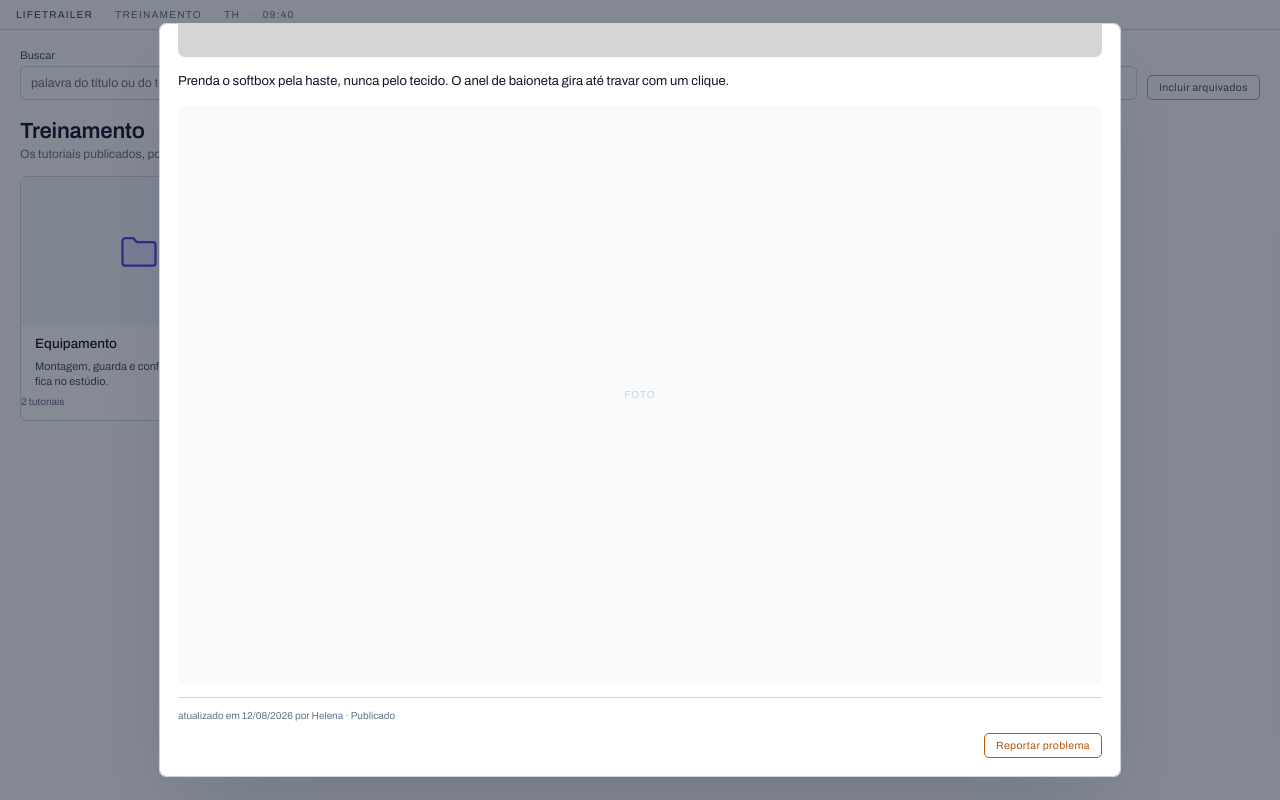
Test: Treinamento › o atendente reporta problema com texto, e vê a confirmação
(page scrolled)
Click the button "Reportar problema": (1043, 746) [984, 733, 1102, 758]
(page scrolled)
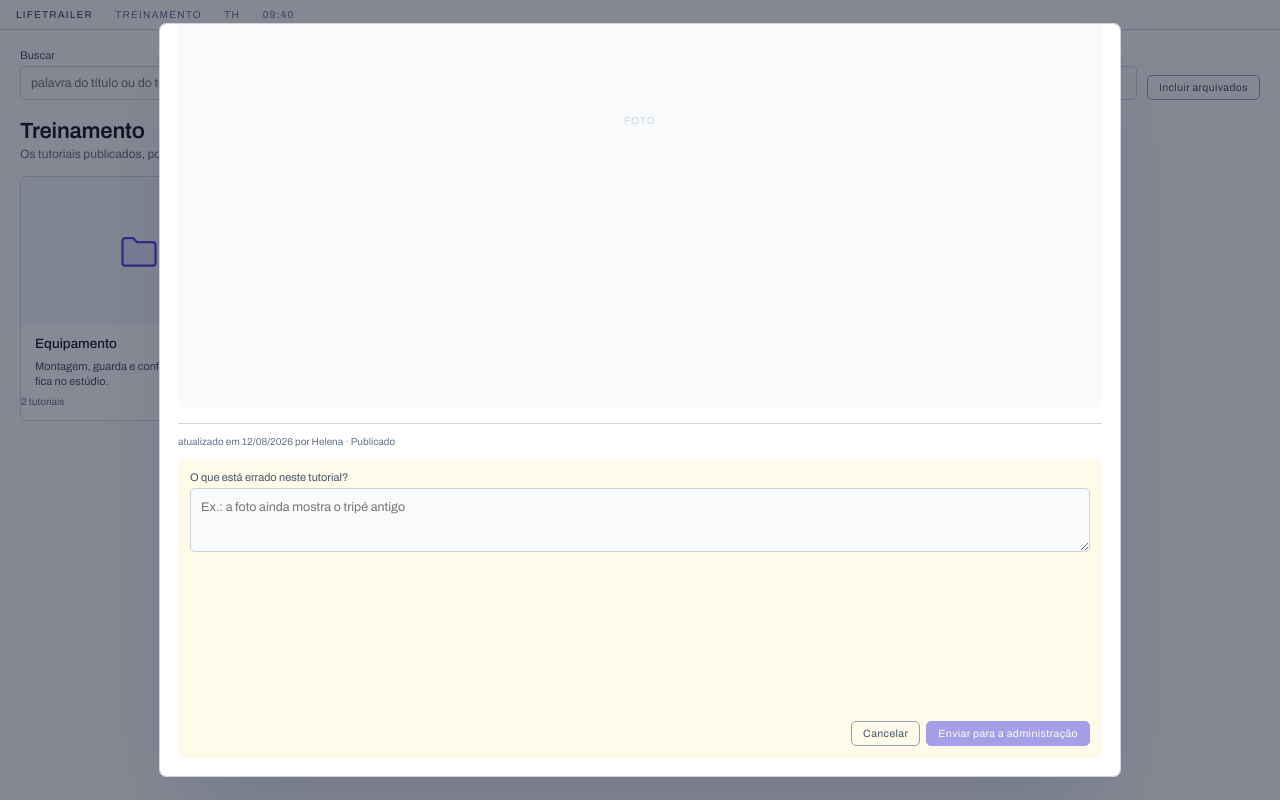
Check: the button "Enviar para a administração" is disabled, box [926, 721, 1090, 746]
In the text box labelled "O que está errado neste tutorial?": (640, 520) [190, 488, 1090, 552], type "foto velha"
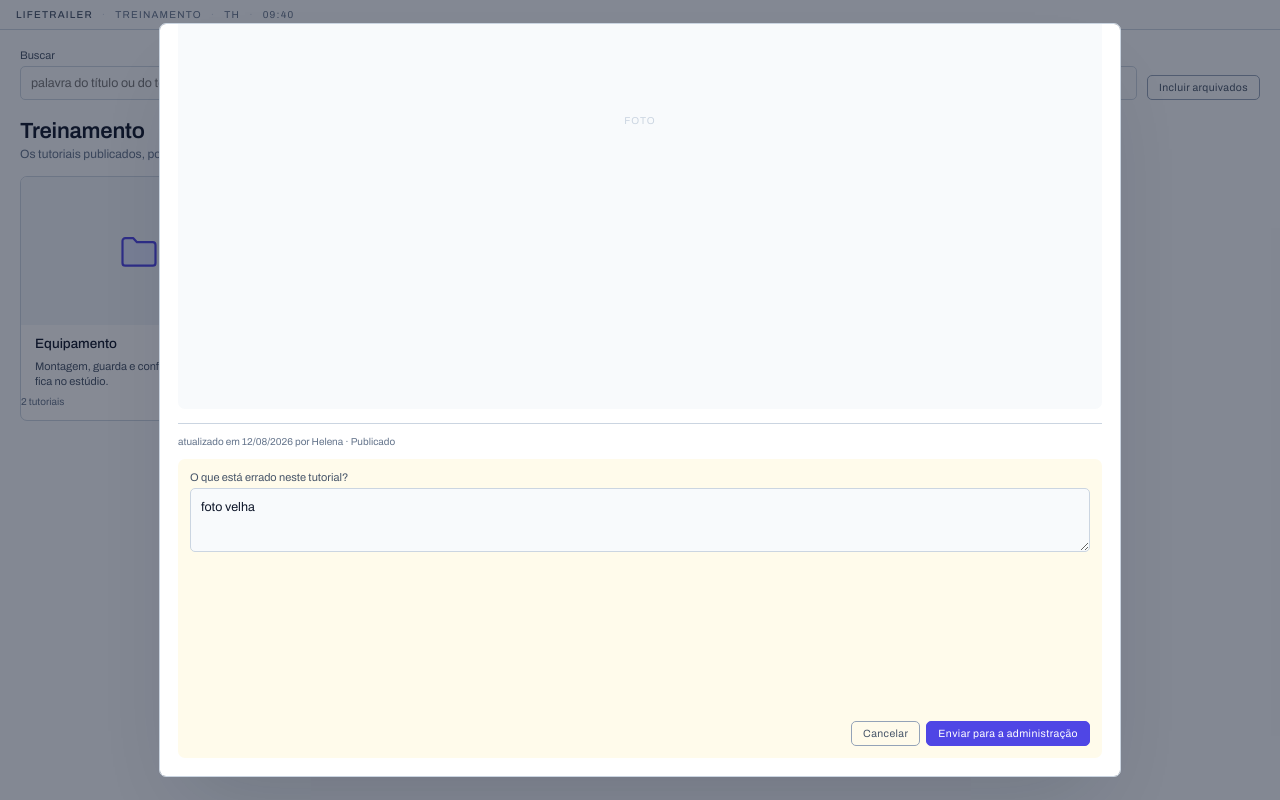
Click the button "Enviar para a administração": (1008, 734) [926, 721, 1090, 746]
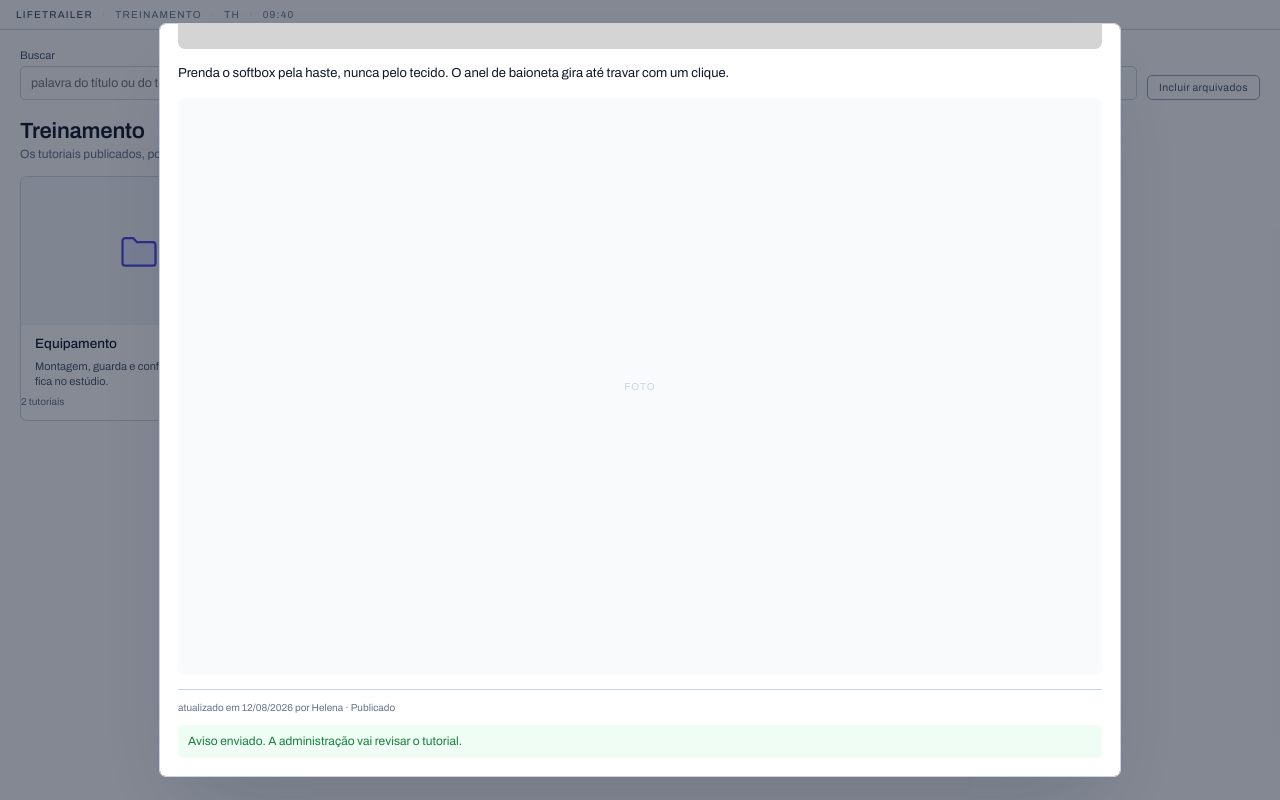
Check: the message shows "Aviso enviado", box [188, 734, 462, 748]
